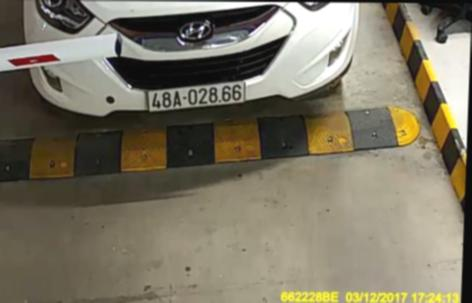License_Plate: (144, 83, 250, 112)
